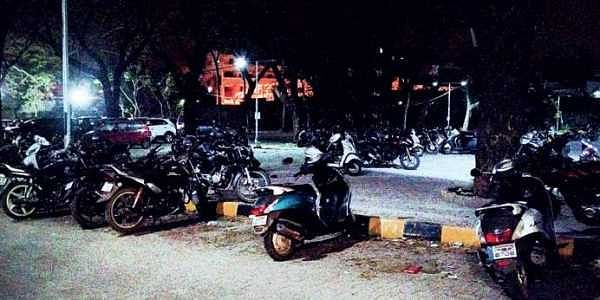bike: (477, 130, 544, 294), (261, 132, 344, 256), (101, 139, 205, 233), (5, 150, 81, 224), (203, 143, 267, 201), (304, 129, 361, 166), (368, 135, 423, 165), (24, 132, 68, 162), (441, 128, 475, 154)
car: (95, 118, 149, 147)
